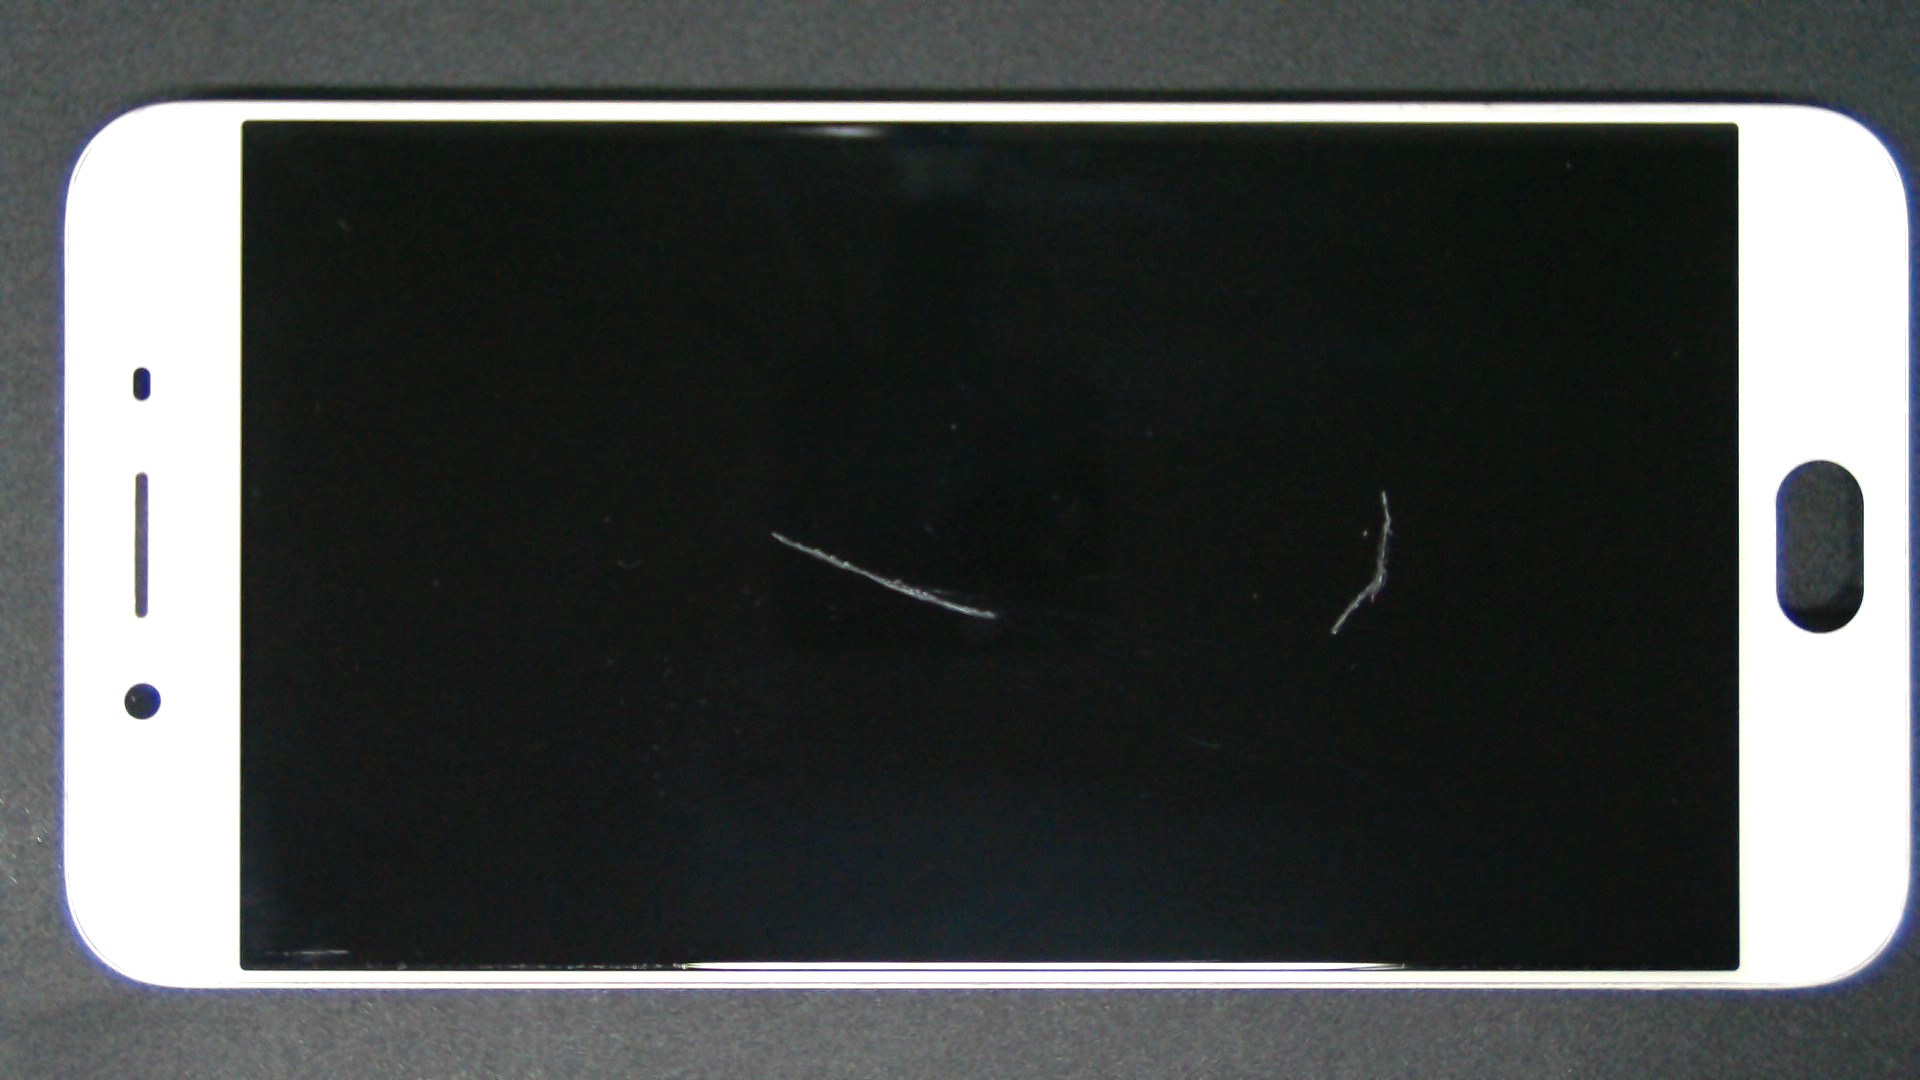oil: (683, 264, 1920, 794), (692, 244, 1920, 736), (386, 265, 1158, 799)
